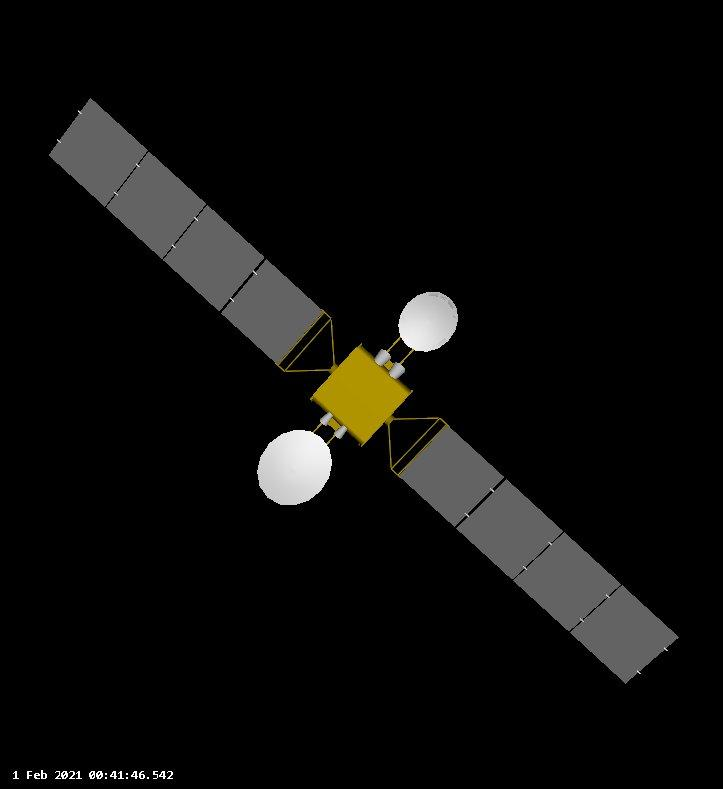antenna: (257, 428, 336, 507), (396, 290, 461, 354)
body: (310, 343, 418, 453)
solar: (46, 96, 326, 368), (396, 422, 683, 687)
thruster: (387, 361, 408, 382), (373, 347, 393, 369), (318, 411, 335, 427), (332, 424, 348, 440)
